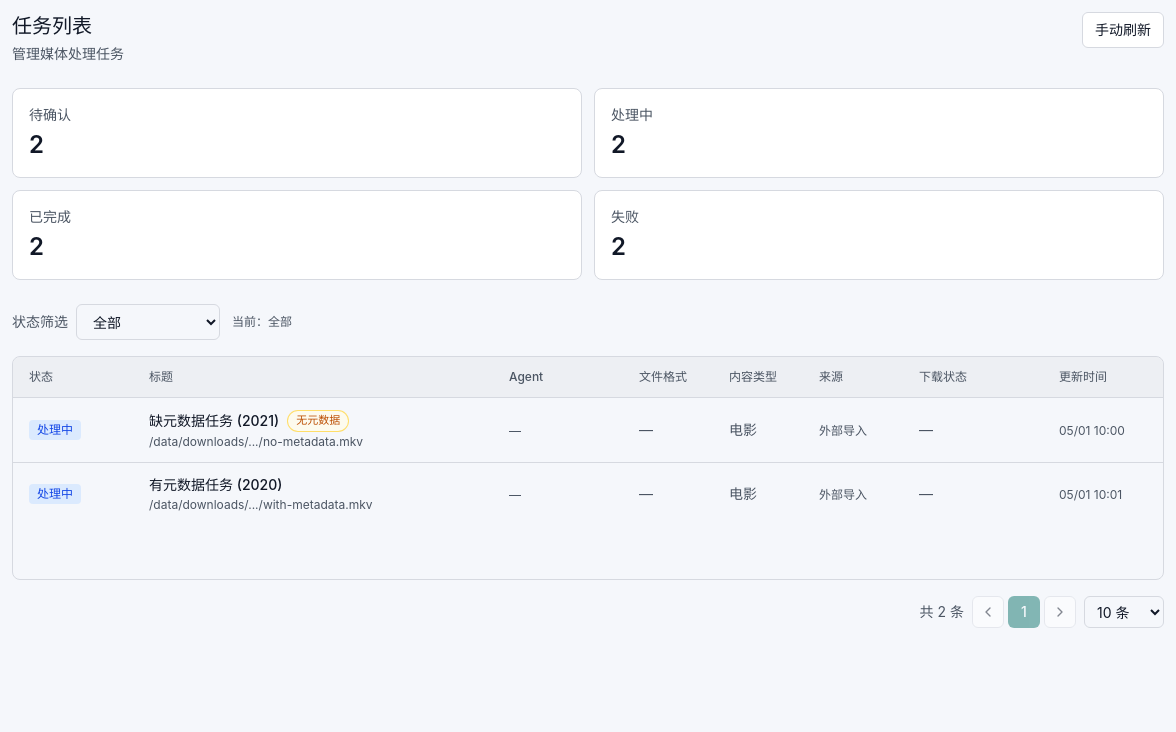
Test case: TaskListPage › supports no-metadata filter and shows no-metadata title badge
Select "无元数据" in the dropdown labelled "状态筛选" at (148, 322), box [76, 304, 220, 340]
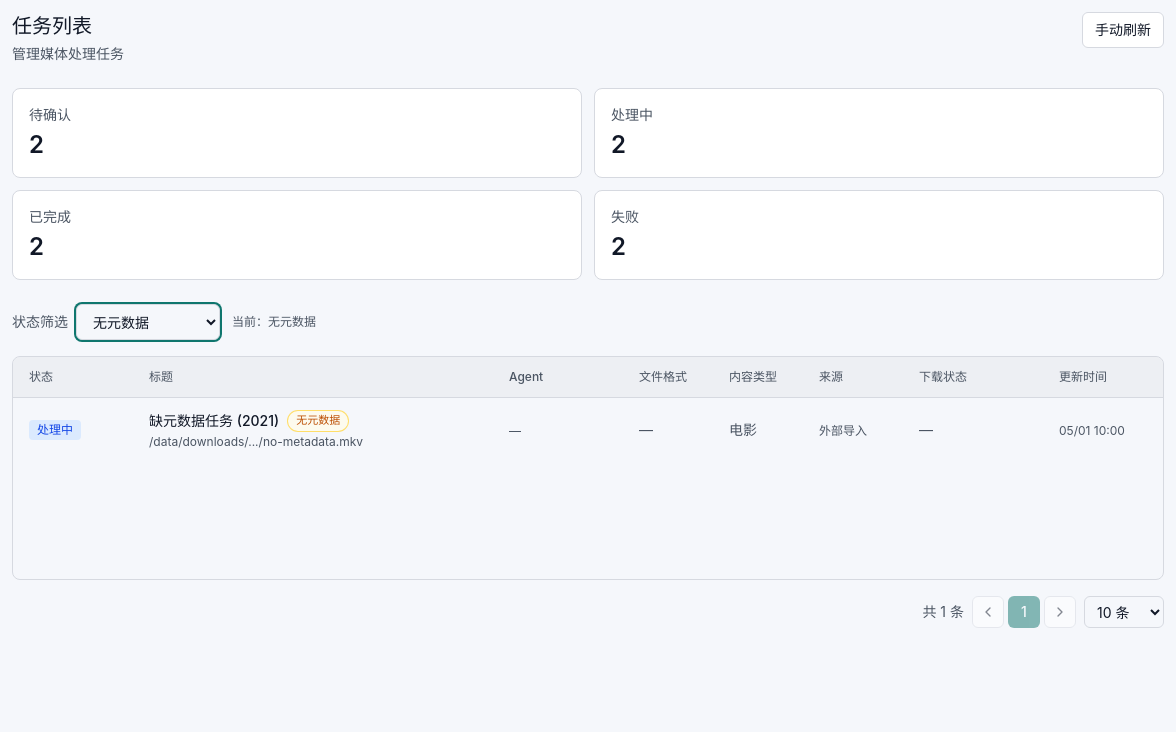
Now the number of links "缺元数据任务 (2021)" is 2
Now the link "有元数据任务" is gone
